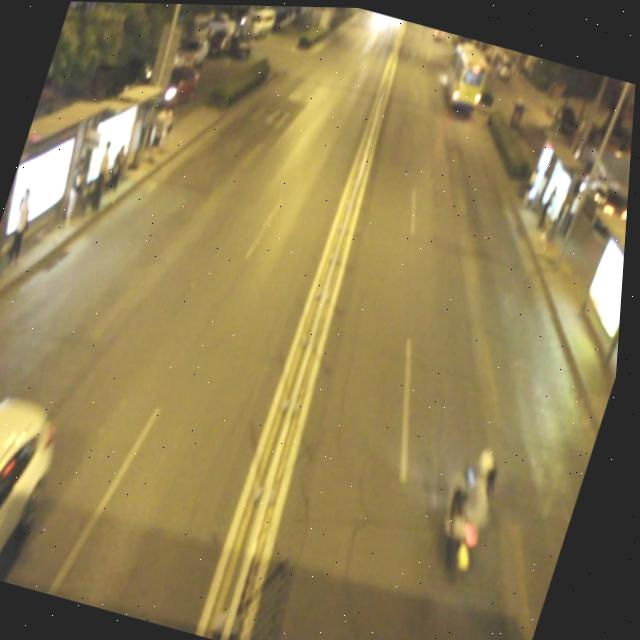car: (0, 377, 73, 584)
